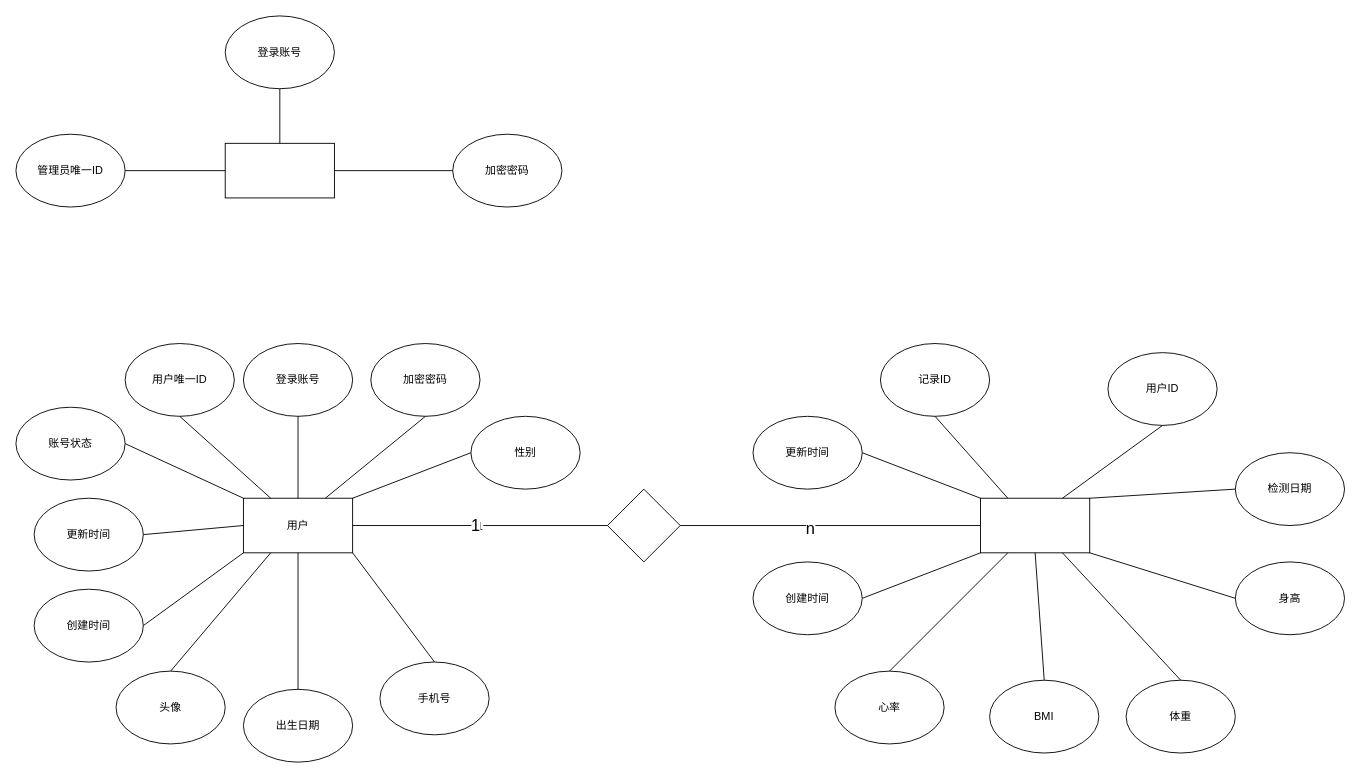
Image size: 1360x778. Some labels were removed from this diagram. Here are the shapes that lost their labels. From the top down, the centre of each, then its label:
the point at 279,170: 管理员
the point at 643,525: 拥有
the point at 1035,525: 体质信息
